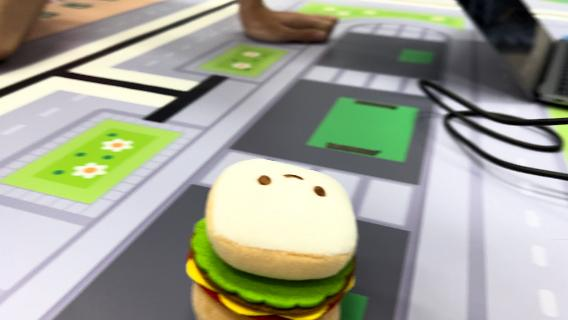sandwich: (185, 156, 362, 318)
